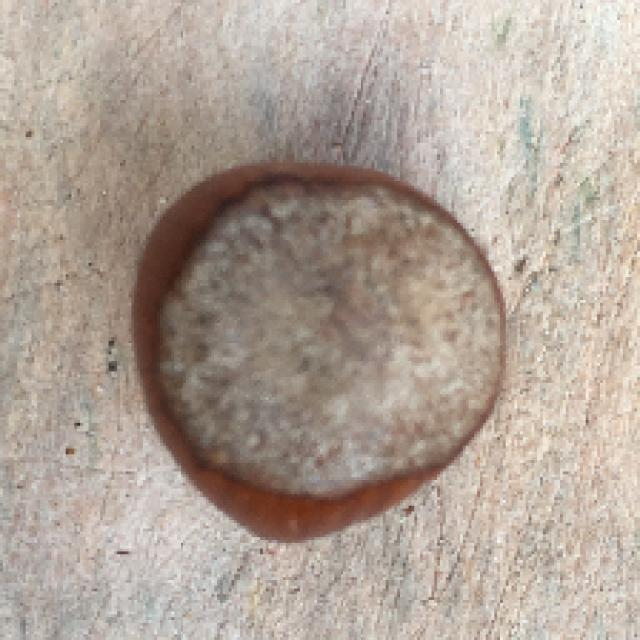qualityHazelnut: (130, 170, 516, 538)
